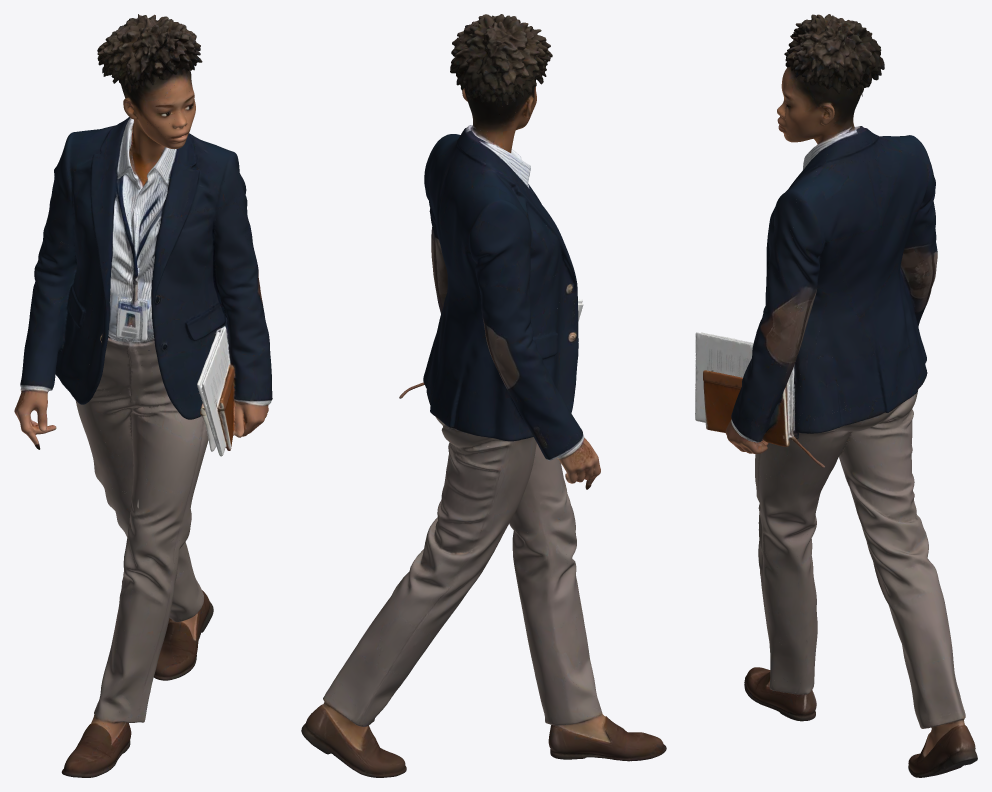
The model's file is confident_professional_on_the_move.glb.
3 renders of one model, left to right at view 1: azimuth 30°, elevation 25°; view 2: azimuth 150°, elevation 25°; view 3: azimuth 270°, elevation 25°, orthographic. The views are drawn at different scales.
Parts seen in each view (by area): view 1: Object_5, Object_7, Object_6, Object_8; view 2: Object_6, Object_7, Object_5, Object_8; view 3: Object_6, Object_7, Object_5, Object_8.
Part boxes in pixels (x1,y1,x2,y2): Object_5: (34,14,272,777); Object_7: (74,14,256,750); Object_6: (14,17,224,680); Object_8: (93,46,200,766); Object_6: (301,34,600,777); Object_7: (399,14,627,760); Object_5: (423,27,666,761); Object_8: (437,41,576,544); Object_6: (800,21,977,777); Object_7: (755,14,855,721); Object_5: (695,20,902,721); Object_8: (751,33,799,709).
Bounding box in the file's own units: 0.6992 × 1.9 × 0.6735.
Materials: 1 (1 with a texture image).
